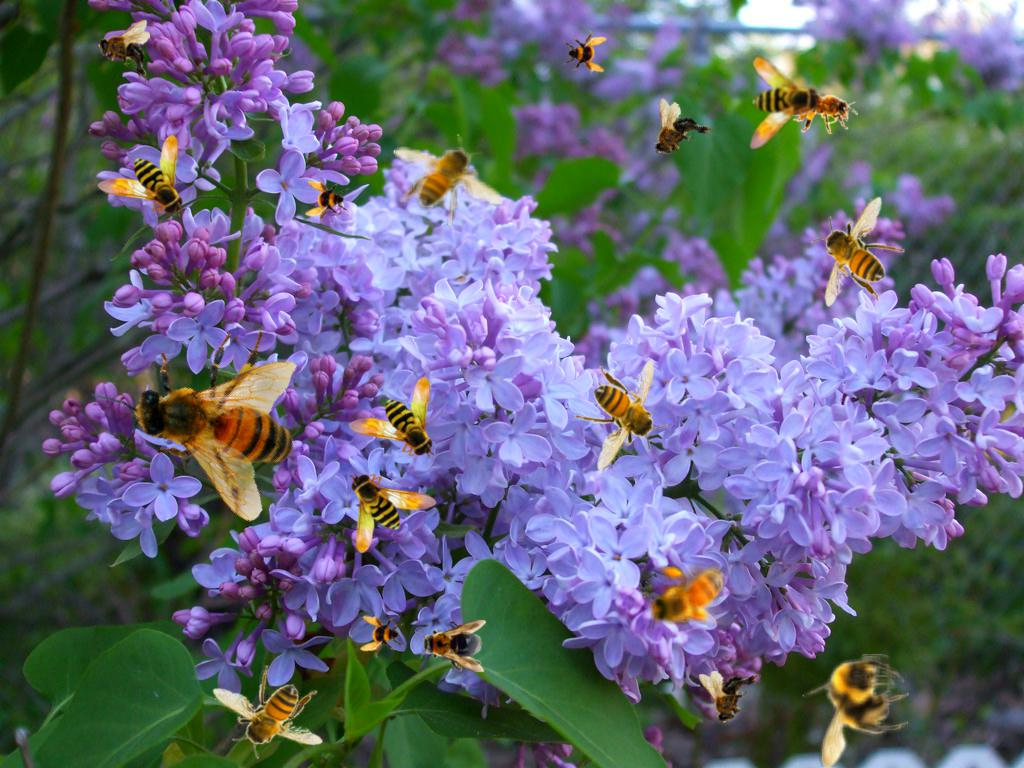Bee: (70, 278, 355, 564), (709, 48, 829, 168), (802, 654, 909, 768), (212, 665, 323, 759), (811, 196, 905, 307), (574, 360, 668, 471), (393, 134, 504, 228), (346, 374, 438, 460), (97, 135, 185, 217), (349, 471, 437, 553), (644, 563, 737, 631), (636, 95, 717, 173), (418, 620, 486, 672), (699, 671, 761, 724), (97, 20, 150, 82), (792, 89, 858, 134), (305, 179, 349, 223), (563, 30, 607, 74), (360, 614, 404, 658)
